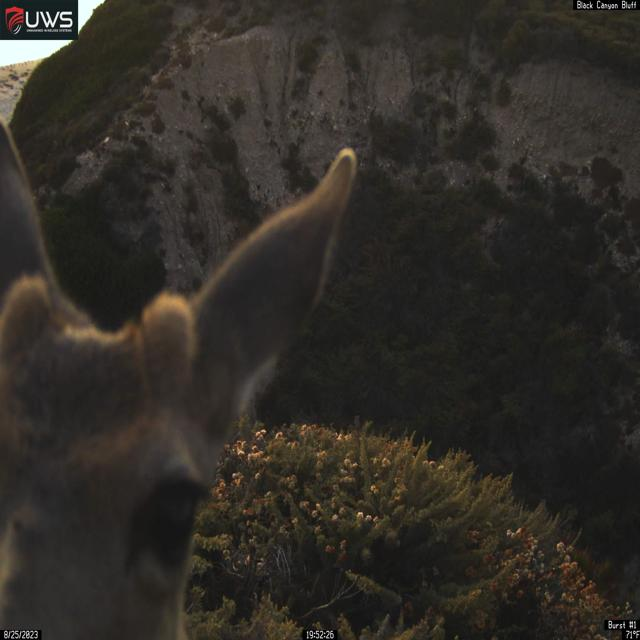deer: (0, 111, 358, 640)
